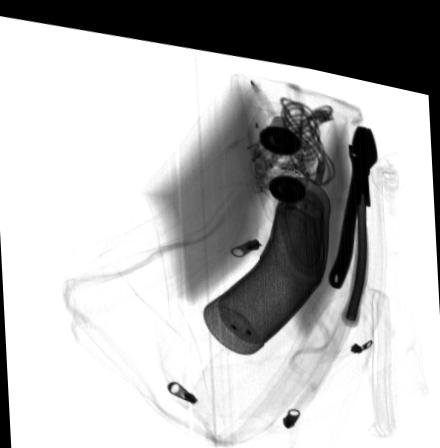Hammer: (342, 127, 372, 311)
Wrench: (327, 109, 378, 275)
